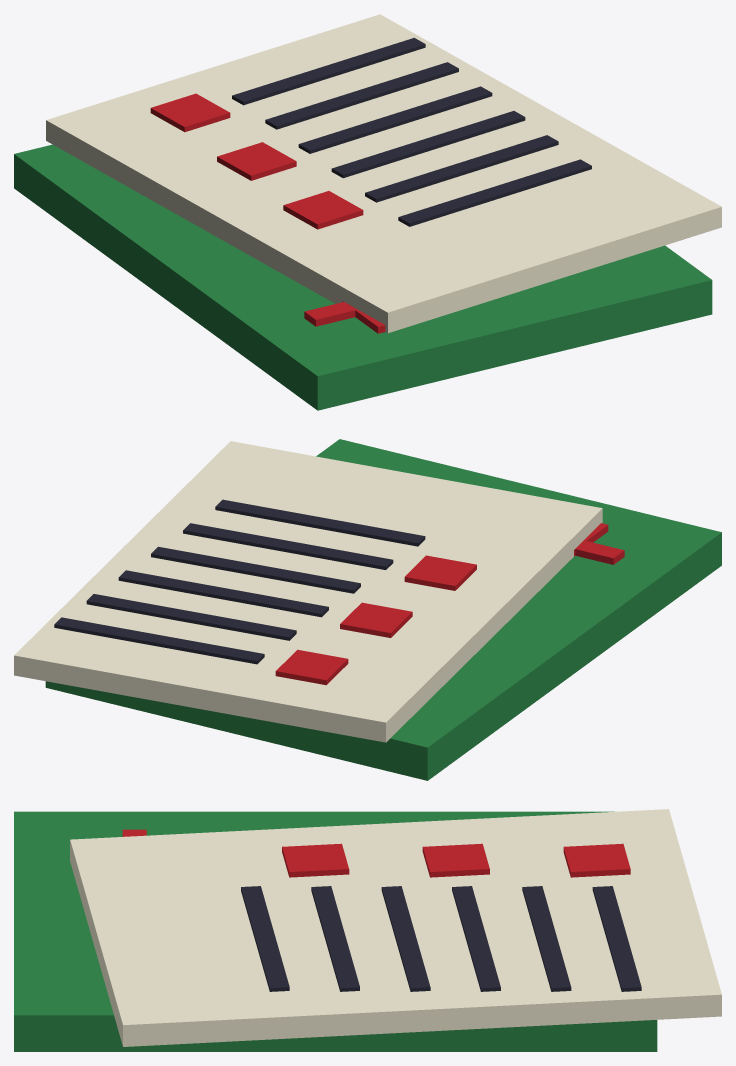
File: school_homework.glb
3 views of the same model, one above another, from view 1: azimuth 30°, elevation 25°; view 2: azimuth 150°, elevation 25°; view 3: azimuth 270°, elevation 25° (orthographic). The views are drawn at different scales.
Parts seen in each view (by area): view 1: sheets_school_paper, folder_school_folder, ink_school_ink, houses_school_red, grade_school_red; view 2: sheets_school_paper, folder_school_folder, ink_school_ink, houses_school_red, grade_school_red; view 3: sheets_school_paper, folder_school_folder, ink_school_ink, houses_school_red.
Boxes of the visible parts, x1=… form: sheets_school_paper: x1=46, y1=14, x2=721, y2=333; folder_school_folder: x1=14, y1=144, x2=712, y2=410; ink_school_ink: x1=232, y1=37, x2=591, y2=226; houses_school_red: x1=150, y1=93, x2=363, y2=229; grade_school_red: x1=304, y1=301, x2=385, y2=333; sheets_school_paper: x1=14, y1=441, x2=602, y2=742; folder_school_folder: x1=45, y1=439, x2=721, y2=780; ink_school_ink: x1=54, y1=499, x2=425, y2=664; houses_school_red: x1=275, y1=555, x2=476, y2=685; grade_school_red: x1=574, y1=523, x2=624, y2=564; sheets_school_paper: x1=70, y1=809, x2=721, y2=1046; folder_school_folder: x1=14, y1=811, x2=657, y2=1051; ink_school_ink: x1=241, y1=886, x2=641, y2=991; houses_school_red: x1=282, y1=843, x2=630, y2=877.
Bounding box in the file's own units: 0.2772 × 0.0365 × 0.3521.
